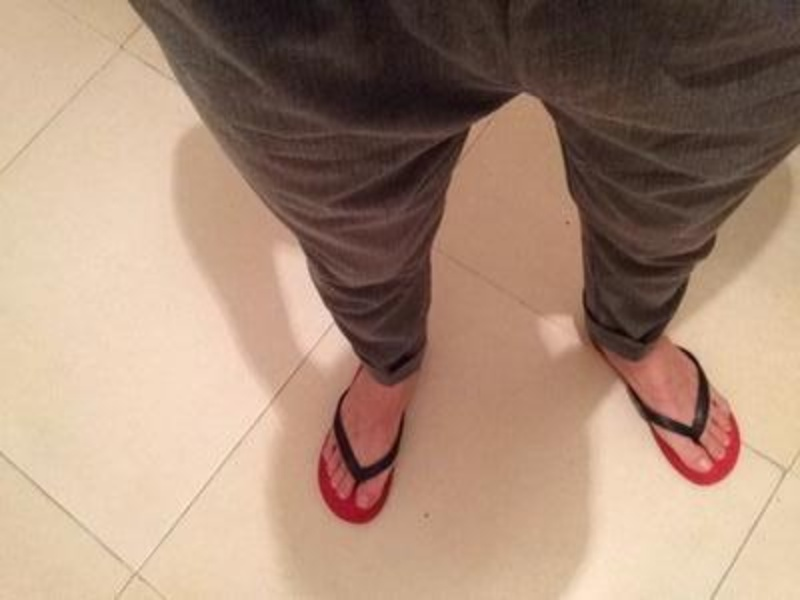trousers: (128, 0, 798, 388)
